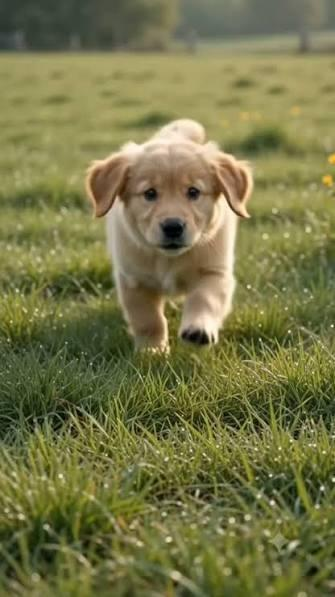puppy-dog: (84, 119, 254, 357)
